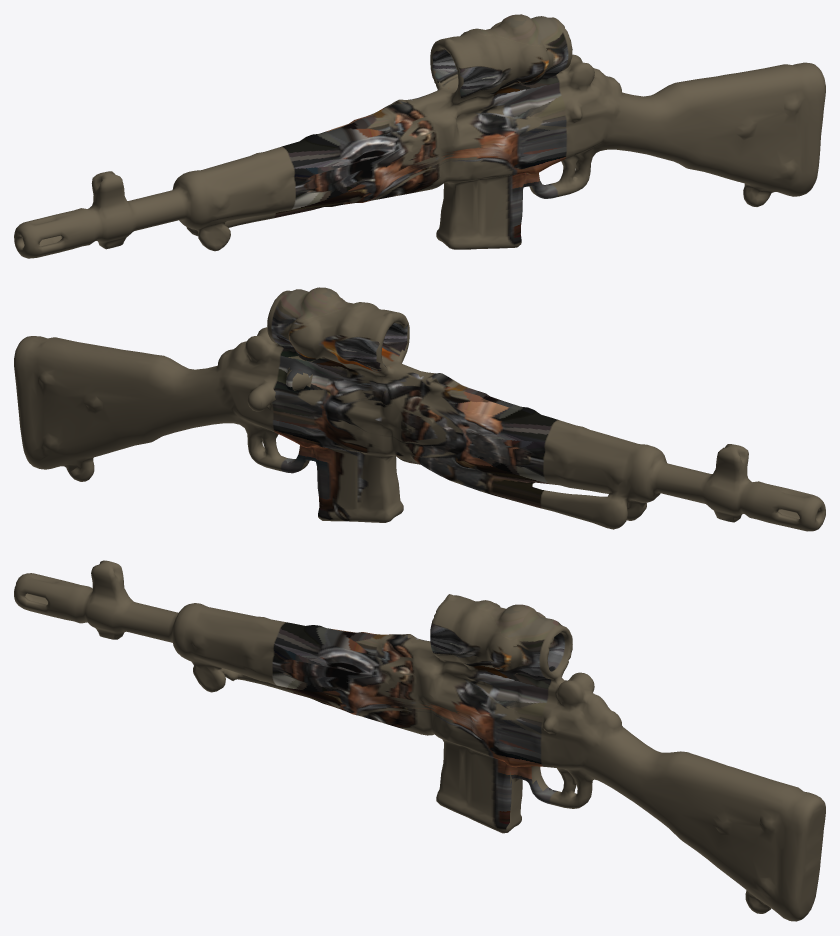
File: warden-rifle-four-view.fbx
3 views of the same model, one above another, from view 1: azimuth 30°, elevation 25°; view 2: azimuth 150°, elevation 25°; view 3: azimuth 330°, elevation 25° (orthographic).
Visible parts, largest first — view 1: geometry_0; view 2: geometry_0; view 3: geometry_0.
Part boxes in pixels (left/top/right/bottom): geometry_0: left=14, top=14, right=825, bottom=258; geometry_0: left=14, top=287, right=825, bottom=531; geometry_0: left=14, top=560, right=825, bottom=921.
Bounding box in the file's own units: 199 × 59.25 × 20.22.
1 material, 1 textured.
